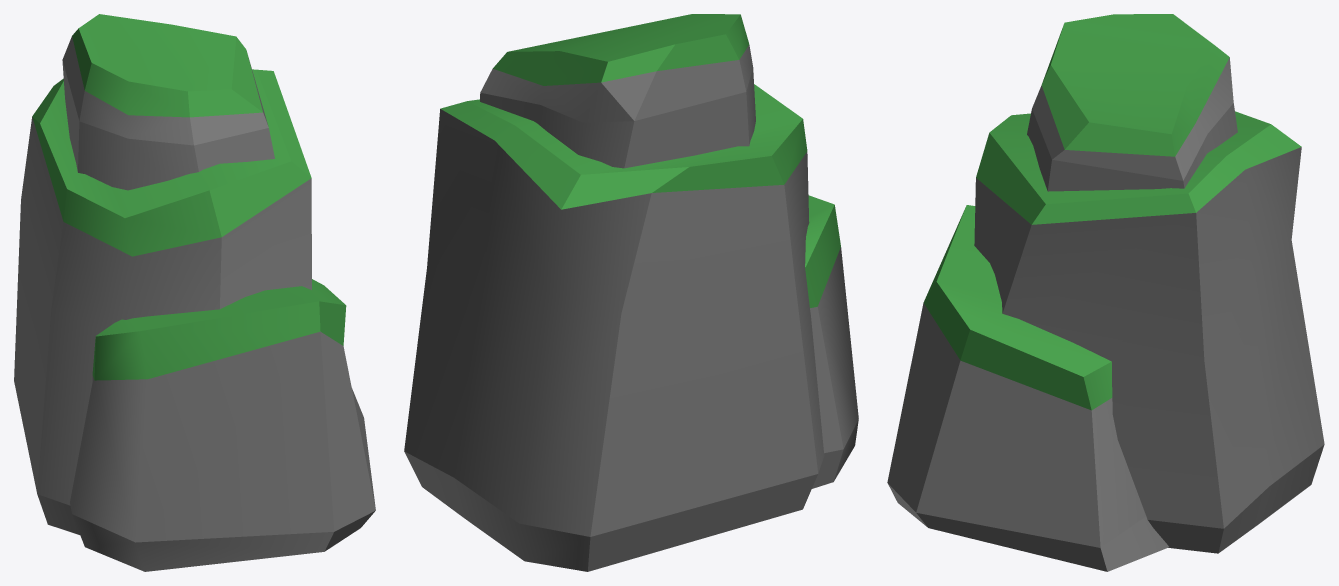
The model's file is Rock_C.fbx.
3 views of the same model, side by side, from view 1: azimuth 30°, elevation 25°; view 2: azimuth 150°, elevation 25°; view 3: azimuth 270°, elevation 25° (orthographic). The views are drawn at different scales.
Parts seen in each view (by area): view 1: Rock_C; view 2: Rock_C; view 3: Rock_C.
Boxes of the visible parts, box(x1,y1,x2,y2) form: Rock_C: box(14, 14, 375, 571); Rock_C: box(404, 14, 858, 571); Rock_C: box(887, 14, 1324, 571).
Size of the model in its own units: 587 by 747 by 672.
